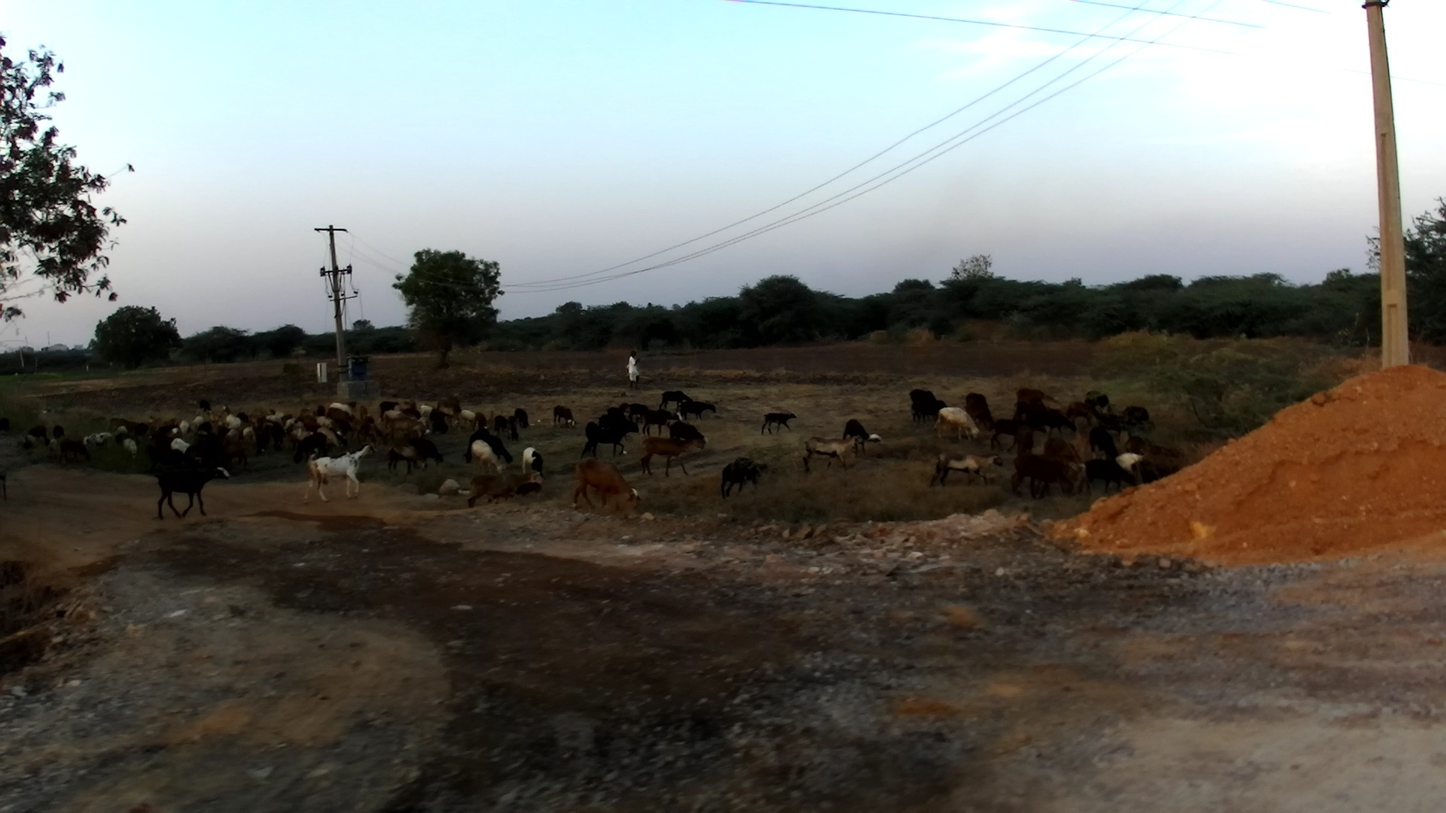animal: (300, 444, 380, 505), (572, 457, 644, 518), (155, 463, 230, 521), (1007, 453, 1076, 501), (924, 453, 1005, 489), (639, 437, 706, 476), (1078, 458, 1138, 498), (801, 436, 864, 473), (581, 422, 639, 459), (933, 406, 981, 444), (465, 474, 514, 509), (718, 461, 762, 499), (989, 419, 1036, 452), (842, 417, 882, 455), (1043, 437, 1085, 473), (1094, 410, 1139, 443), (403, 434, 445, 469), (666, 419, 709, 452), (1039, 408, 1079, 443), (1082, 426, 1122, 461), (1115, 451, 1157, 484), (384, 443, 429, 473), (471, 440, 508, 476), (1011, 399, 1048, 434), (964, 390, 992, 434), (639, 409, 679, 438), (292, 432, 328, 464), (908, 387, 939, 422), (1120, 403, 1155, 431), (1064, 400, 1100, 427), (463, 427, 489, 464), (59, 437, 90, 467), (486, 433, 514, 466), (171, 437, 209, 461), (910, 398, 947, 422), (761, 411, 798, 434), (520, 446, 545, 478), (383, 428, 419, 450), (676, 400, 717, 419), (23, 423, 50, 451), (505, 471, 547, 489), (316, 425, 345, 451), (657, 390, 694, 410), (1123, 435, 1153, 459), (733, 456, 767, 477), (326, 402, 357, 425), (426, 410, 452, 437), (1084, 391, 1114, 414), (1014, 385, 1045, 406), (316, 416, 346, 437), (553, 404, 577, 430), (382, 410, 410, 431), (254, 425, 274, 454), (436, 396, 462, 418), (270, 422, 287, 453), (379, 400, 401, 423), (221, 405, 241, 430), (288, 429, 313, 449), (239, 421, 257, 448), (597, 414, 630, 428), (123, 438, 141, 462), (627, 403, 649, 422), (514, 483, 545, 496), (514, 407, 530, 431), (506, 415, 520, 442), (224, 429, 242, 449), (299, 415, 319, 433), (459, 409, 477, 429), (605, 404, 627, 420), (493, 416, 511, 435), (193, 421, 214, 437), (50, 424, 68, 442), (473, 412, 490, 431), (94, 432, 114, 448), (107, 416, 127, 432), (81, 430, 98, 447), (113, 425, 129, 443), (132, 422, 148, 440), (401, 408, 421, 422), (155, 425, 178, 437), (235, 410, 252, 426), (252, 412, 268, 429), (356, 423, 370, 442), (412, 425, 434, 437), (265, 408, 282, 423), (147, 416, 161, 434), (285, 419, 304, 432), (178, 419, 194, 434), (283, 417, 295, 437), (46, 438, 59, 456), (123, 419, 139, 433), (357, 404, 370, 421), (417, 416, 432, 430), (361, 414, 377, 427), (419, 403, 436, 415), (216, 422, 230, 436), (393, 403, 410, 413), (402, 400, 419, 410), (280, 413, 294, 425), (617, 400, 629, 414), (193, 415, 203, 431), (160, 419, 178, 427)
person: (624, 349, 642, 390)
